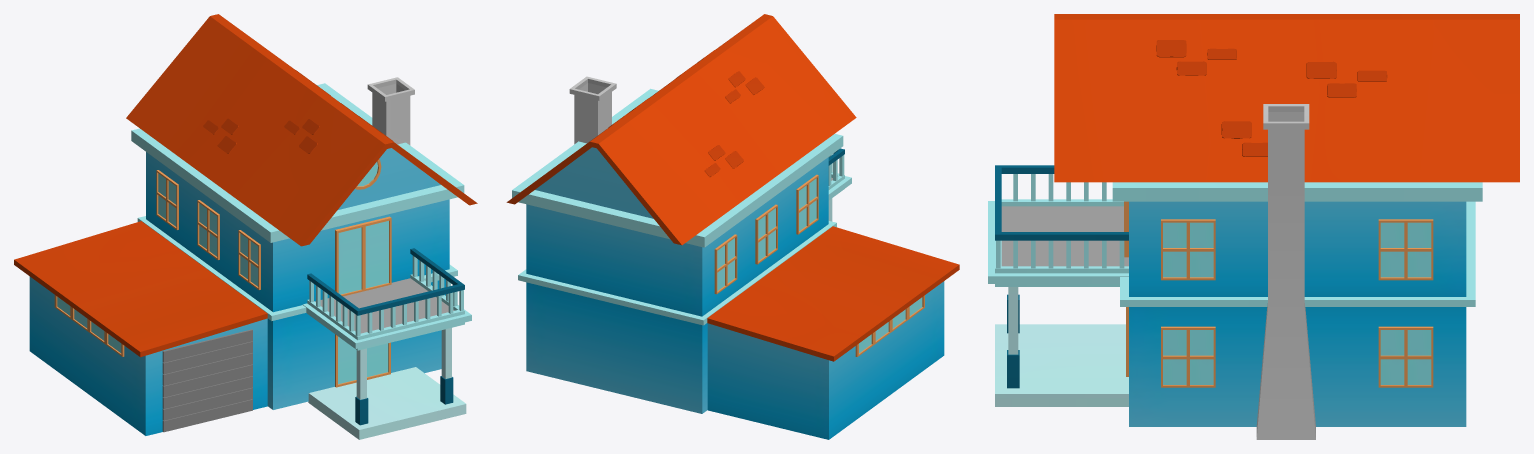
3 views of the same model, side by side, from view 1: azimuth 30°, elevation 25°; view 2: azimuth 150°, elevation 25°; view 3: azimuth 270°, elevation 25° (orthographic). The views are drawn at different scales.
Parts seen in each view (by area): view 1: EV_1; view 2: EV_1; view 3: EV_1.
Part boxes in pixels (box(x1,y1,x2,y2)): EV_1: box(14, 14, 477, 439); EV_1: box(506, 14, 959, 439); EV_1: box(988, 14, 1519, 439).
Bounding box in the file's own units: 911 × 707 × 960.
